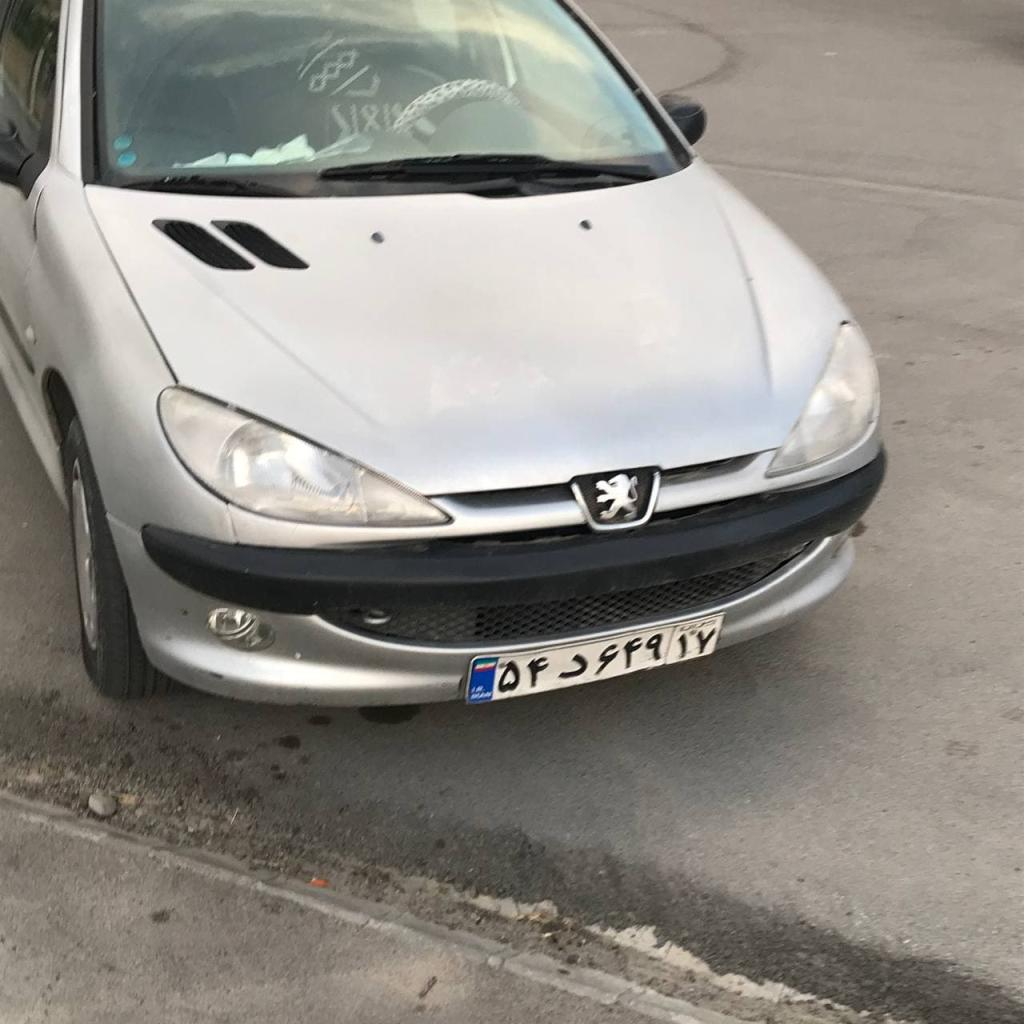Plates: (466, 613, 725, 705)
